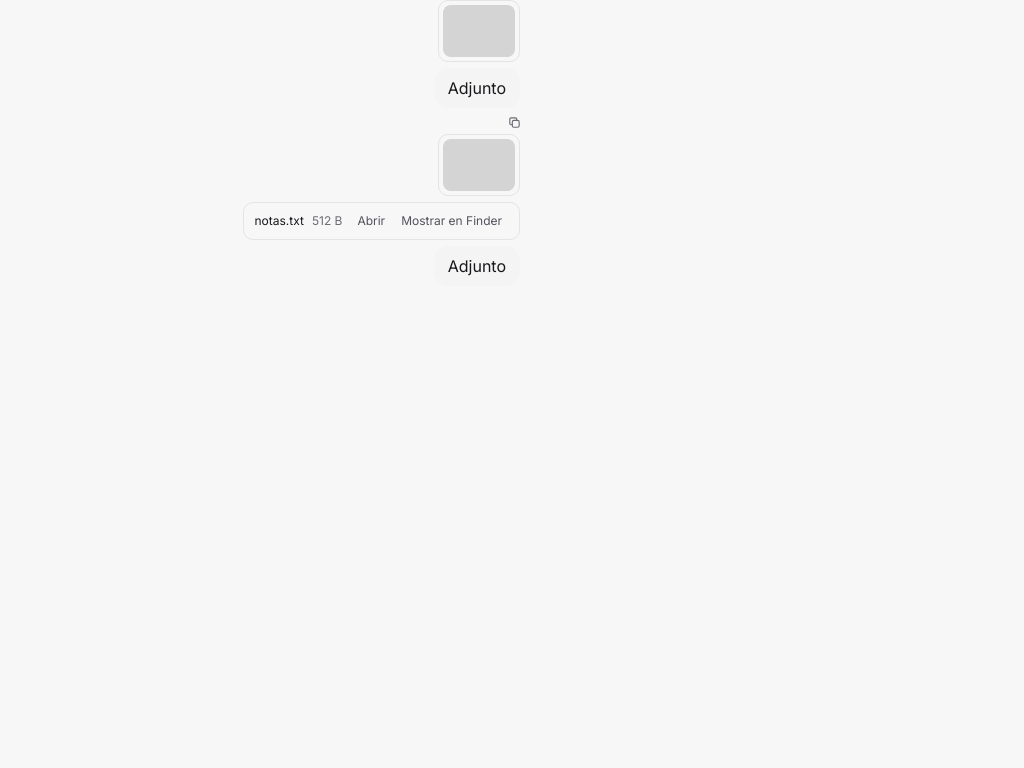
it: images › opens the viewer, moves between the images of the conversation, copies and closes
This screenshot has width=1024, height=768.
Step 1. Click the button named "Ver plano.png" → coordinates (479, 31), box [443,5,515,57]
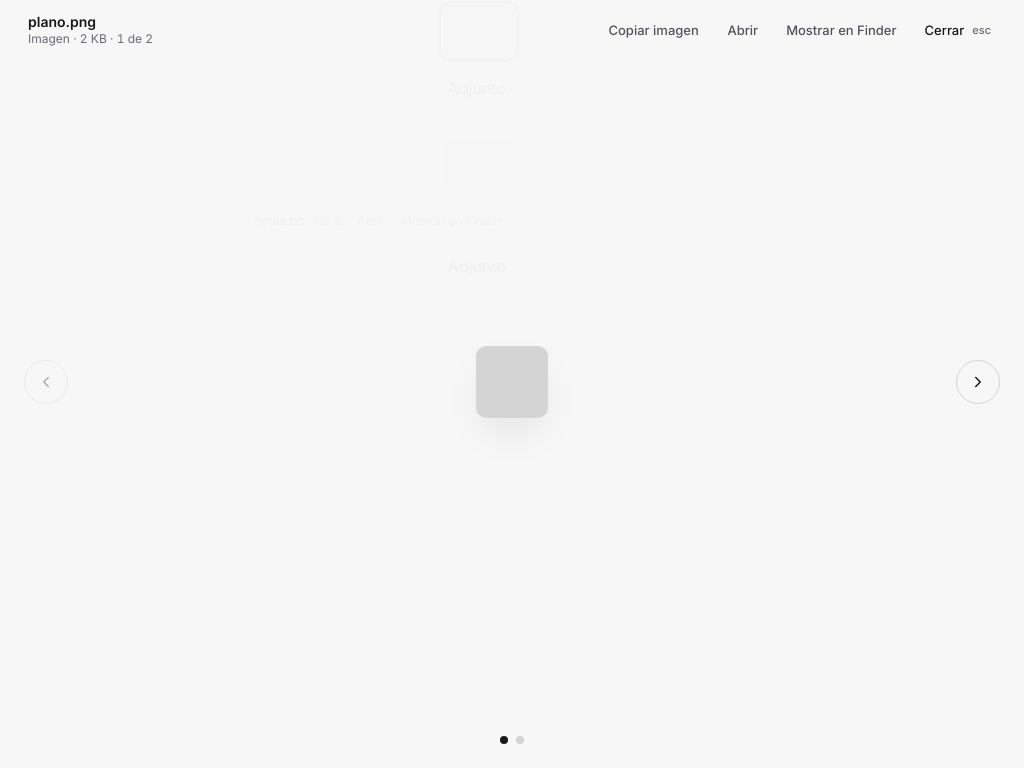
Expected: the button named "Anterior" is disabled, [24,360,68,404]
Expected: the dialog "plano.png" shows "Imagen · 2 KB · 1 de 2"
Step 2. Click the button named "Siguiente" → coordinates (978, 382), box [956,360,1000,404]
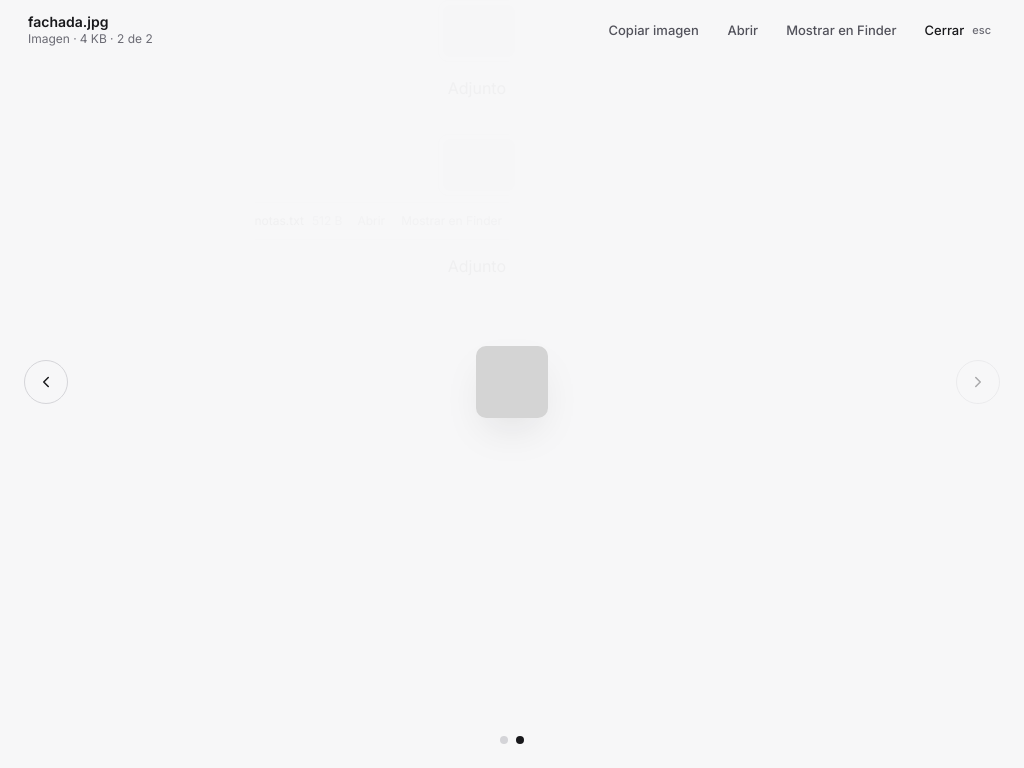
Expected: the dialog "fachada.jpg" is shown
Step 3. Press ArrowLeft in the dialog
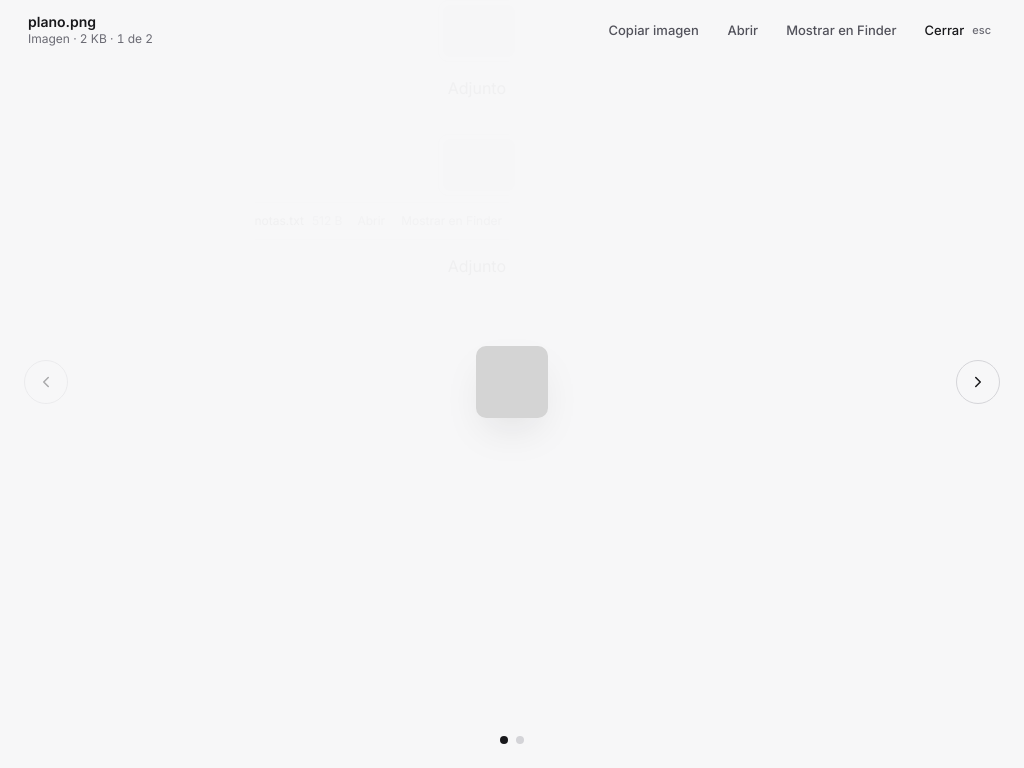
Expected: the dialog "plano.png" is shown
Step 4. Click the button named "fachada.jpg" → coordinates (520, 740), box [516,736,524,744]
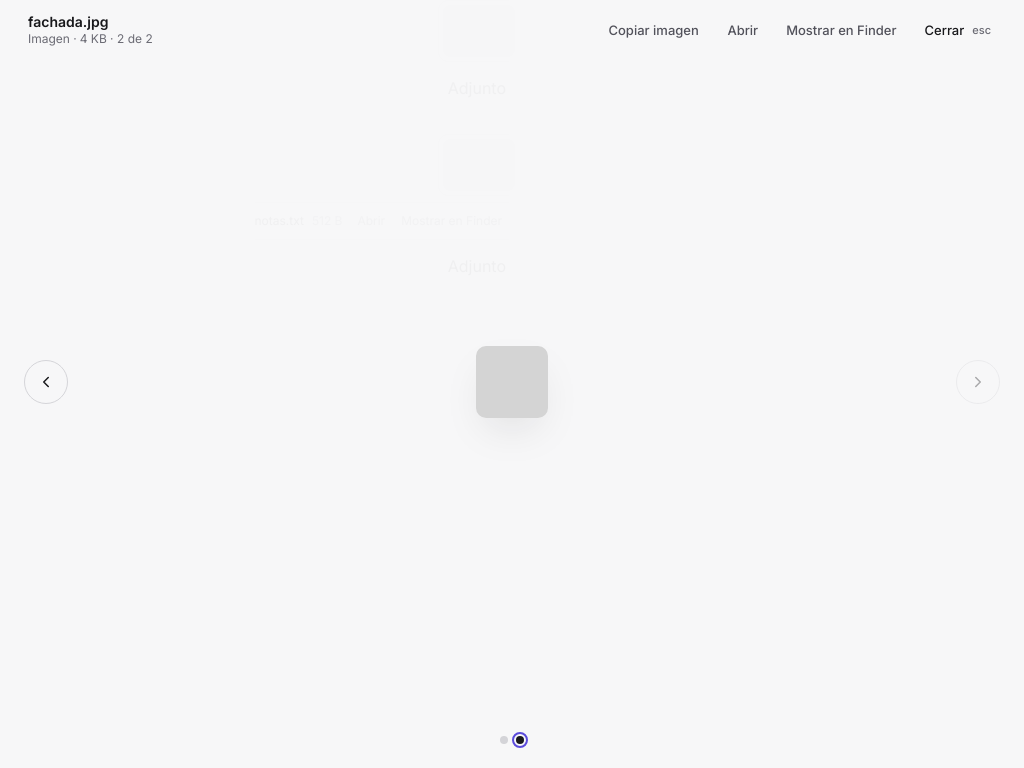
Expected: the button named "Siguiente" is disabled, [956,360,1000,404]
Step 5. Click the button "Copiar imagen" → coordinates (654, 30), box [595,14,712,46]
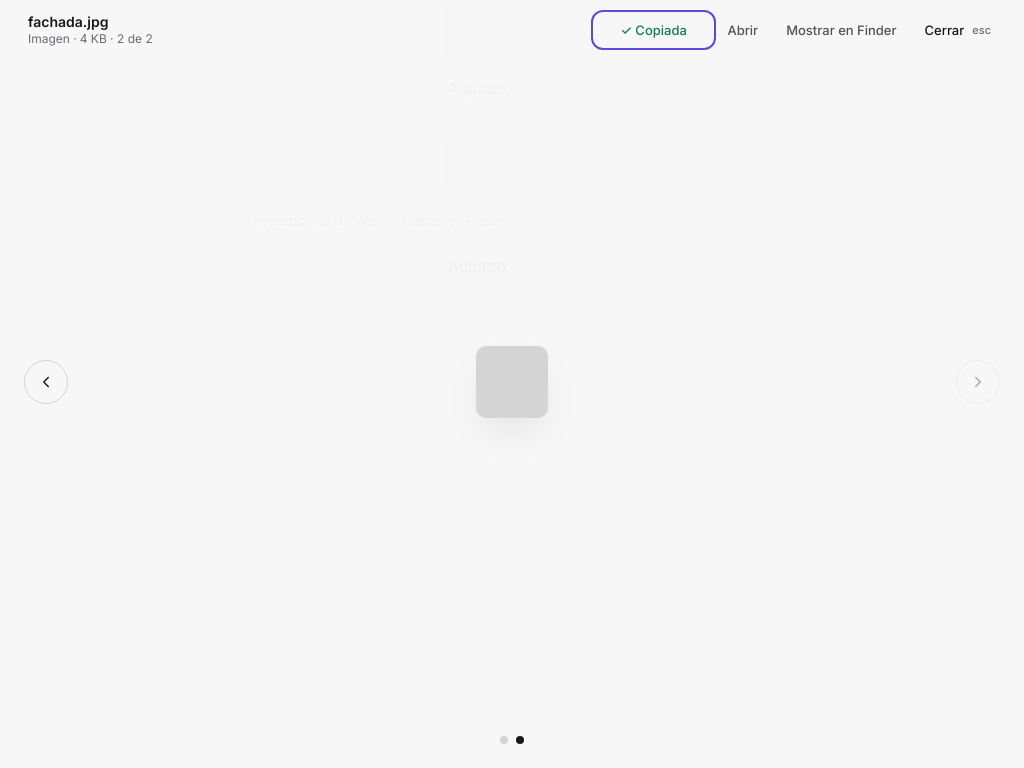
Expected: the text "✓ Copiada" is shown, [620,22,687,38]
Step 6. Press Escape in the dialog "fachada.jpg"
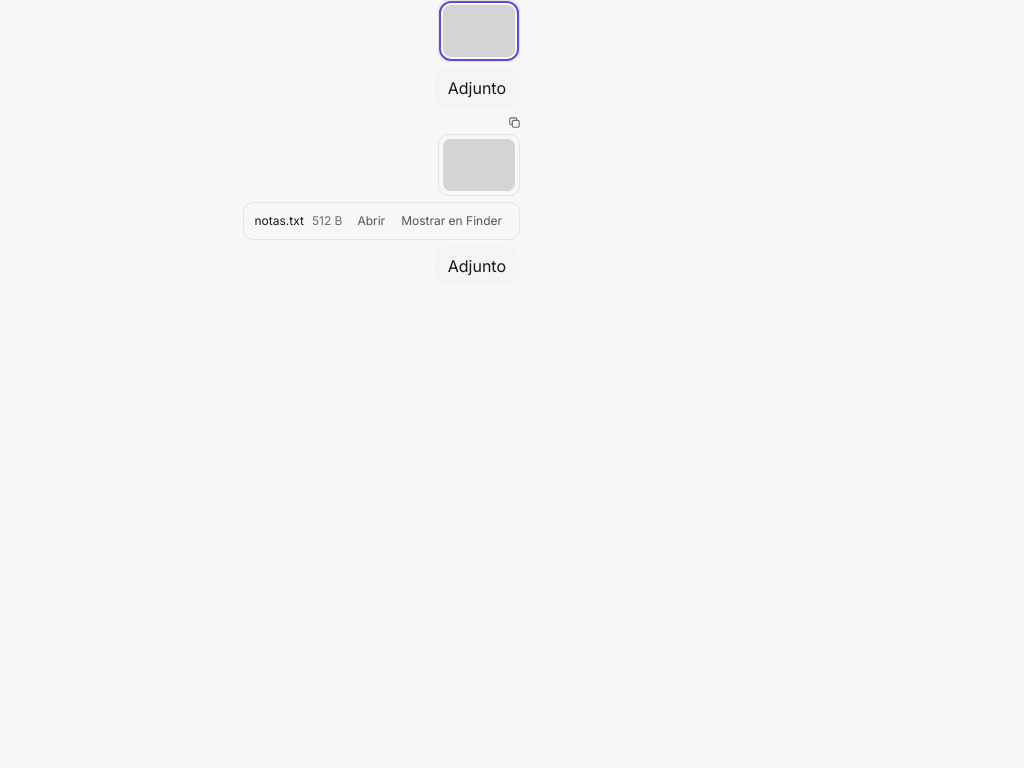
Expected: the dialog is gone
